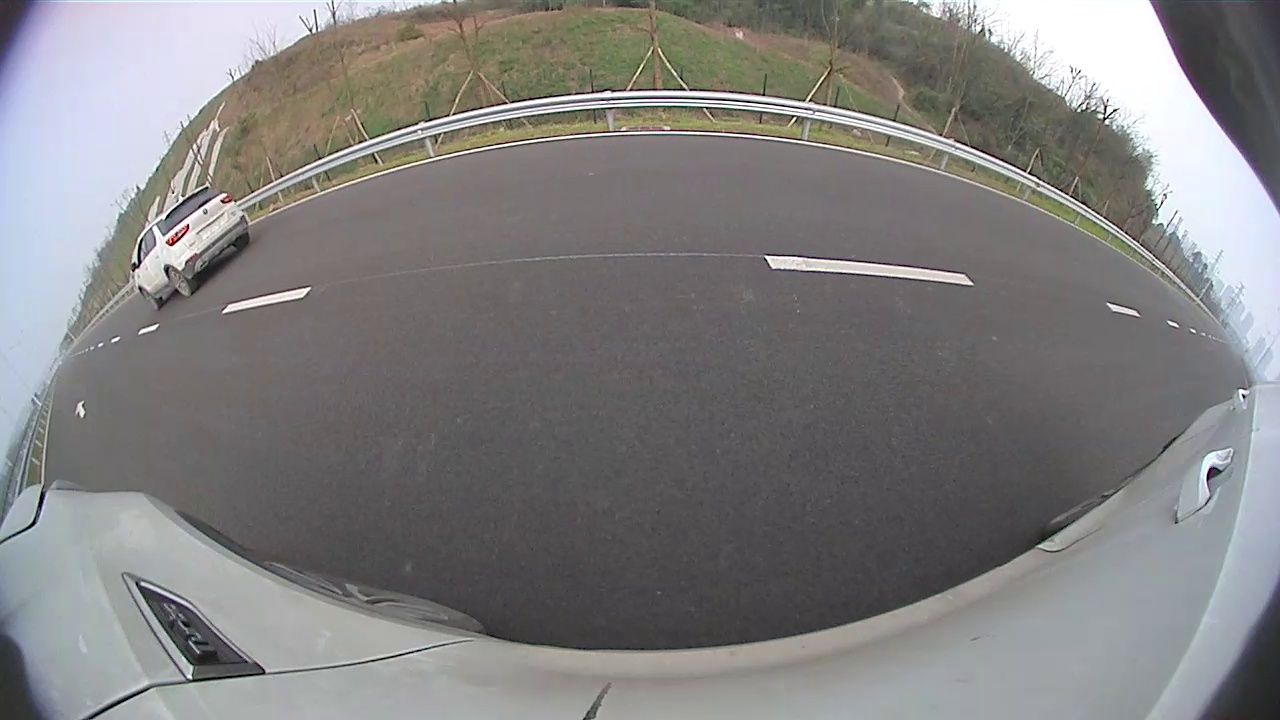car: (130, 183, 252, 312)
rear: (167, 266, 194, 297)
